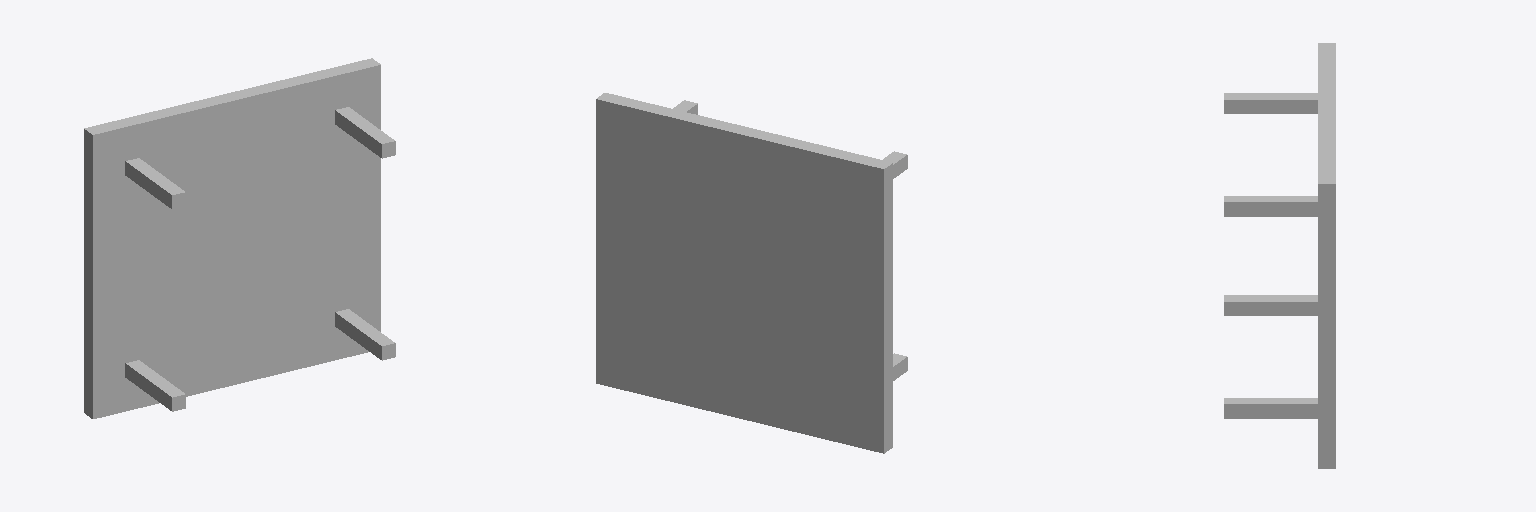
File: random_table8.obj
The picture shows the model from 3 angles: view 1: azimuth 30°, elevation 25°; view 2: azimuth 150°, elevation 25°; view 3: azimuth 270°, elevation 25°; orthographic projection.
Visible parts, largest first — view 1: Table_Cube.235, TableLeg1_Cube.237, TableLeg0_Cube.236, TableLeg2_Cube.238, TableLeg3_Cube.239; view 2: Table_Cube.235; view 3: Table_Cube.235, TableLeg0_Cube.236, TableLeg1_Cube.237, TableLeg2_Cube.238, TableLeg3_Cube.239.
Part boxes in pixels (left/top/right/bottom): Table_Cube.235: left=84, top=58, right=380, bottom=418; TableLeg1_Cube.237: left=125, top=158, right=185, bottom=209; TableLeg0_Cube.236: left=335, top=107, right=395, bottom=158; TableLeg2_Cube.238: left=335, top=309, right=395, bottom=360; TableLeg3_Cube.239: left=125, top=360, right=185, bottom=411; Table_Cube.235: left=596, top=93, right=892, bottom=453; Table_Cube.235: left=1318, top=43, right=1335, bottom=468; TableLeg0_Cube.236: left=1224, top=196, right=1317, bottom=216; TableLeg1_Cube.237: left=1224, top=93, right=1317, bottom=113; TableLeg2_Cube.238: left=1224, top=398, right=1317, bottom=418; TableLeg3_Cube.239: left=1224, top=295, right=1317, bottom=315.
Size of the model in its own units: 6.57 by 6.19 by 2.2.